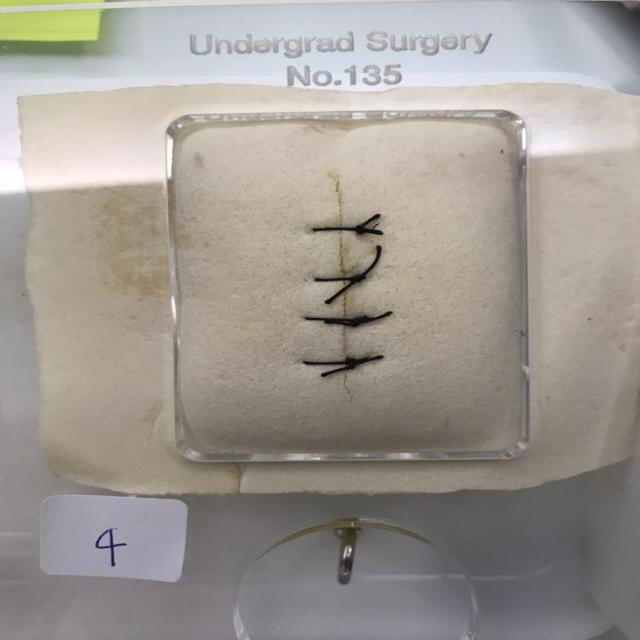knot: (351, 317, 367, 327), (346, 359, 359, 370), (353, 275, 365, 282), (356, 225, 365, 234)
leftover: (322, 276, 362, 305), (356, 243, 381, 280), (318, 360, 359, 379), (356, 309, 395, 322), (356, 212, 382, 231), (348, 353, 386, 364), (321, 318, 362, 326), (356, 226, 386, 236)
stitch: (302, 315, 370, 322), (312, 275, 368, 282), (310, 226, 367, 232), (300, 360, 360, 365)
wound: (333, 178, 352, 400)
